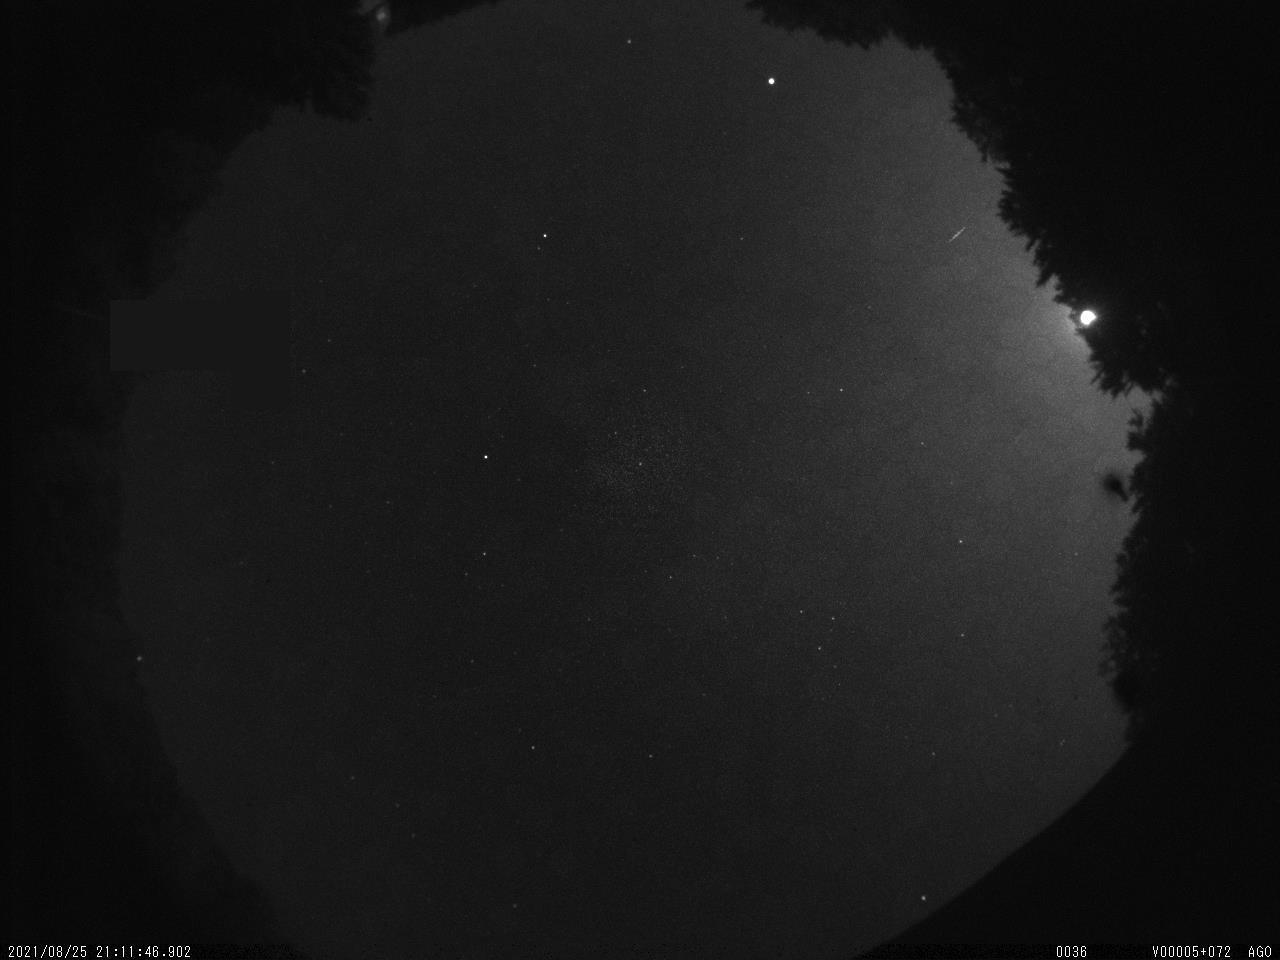Meteor: (940, 221, 974, 253)
